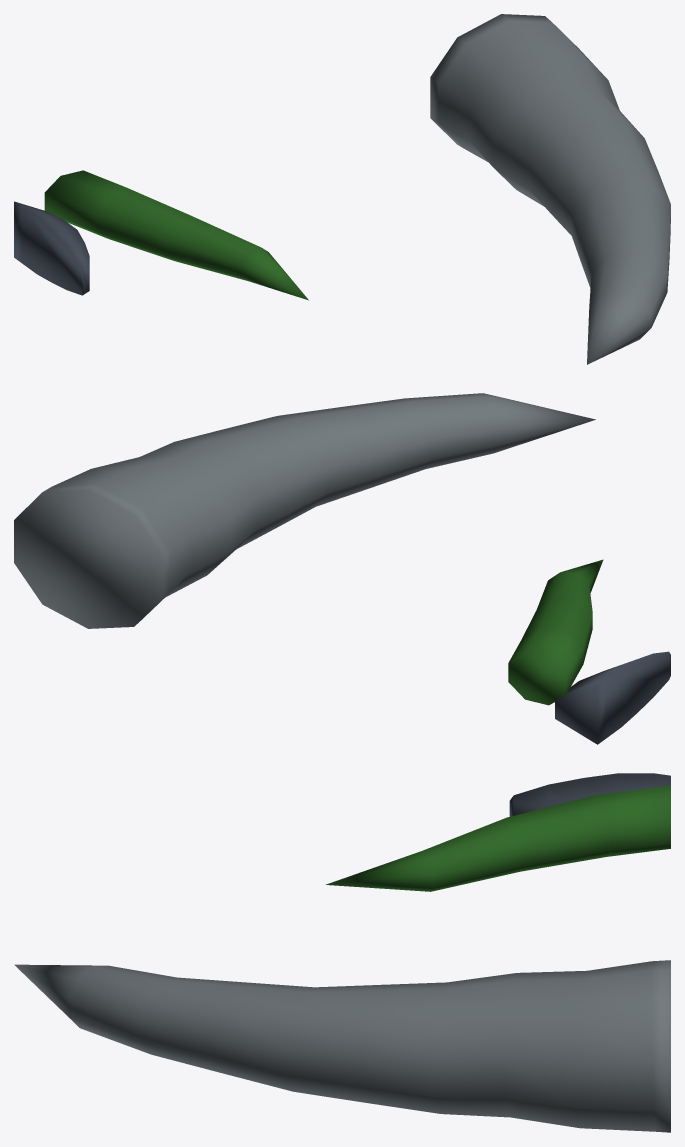
File: newshh-201.glb
The picture shows the model from 3 angles, top to bottom: view 1: azimuth 30°, elevation 25°; view 2: azimuth 150°, elevation 25°; view 3: azimuth 270°, elevation 25°; orthographic projection. The views are drawn at different scales.
Visible parts, largest first — view 1: newshh-201; view 2: newshh-201; view 3: newshh-201.
Boxes of the visible parts, box(x1,y1,x2,y2) form: newshh-201: box(14, 14, 670, 364); newshh-201: box(14, 393, 670, 744); newshh-201: box(14, 773, 670, 1132).
Size of the model in its own units: 1.77 by 0.4013 by 1.57.
